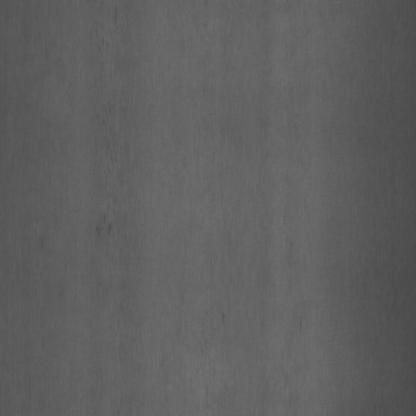silk_spot: (94, 103, 137, 274)
